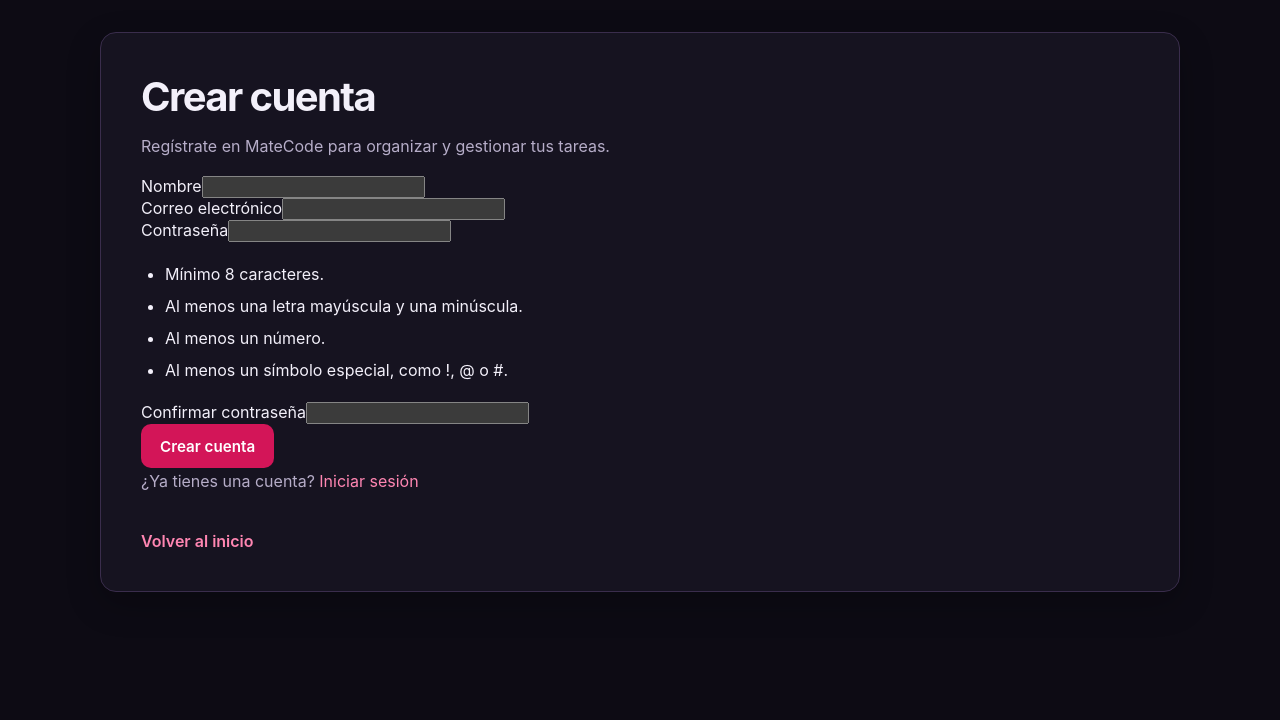
Test case: RegisterPage › muestra el error cuando falla el registro
Type "Ana Pérez" into the field labelled "Nombre" at (313, 187), box [202,176,424,198]
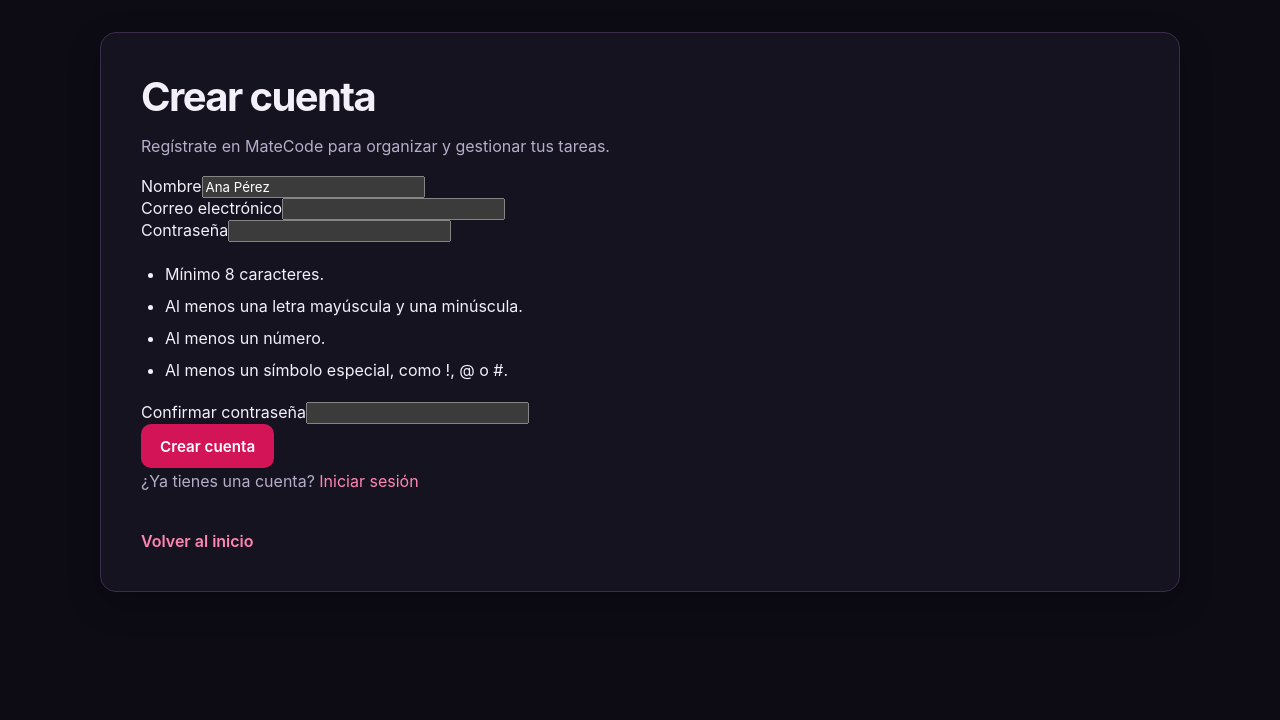
Type "ana@example.com" into the field labelled "Correo electrónico" at (394, 209), box [282,198,505,220]
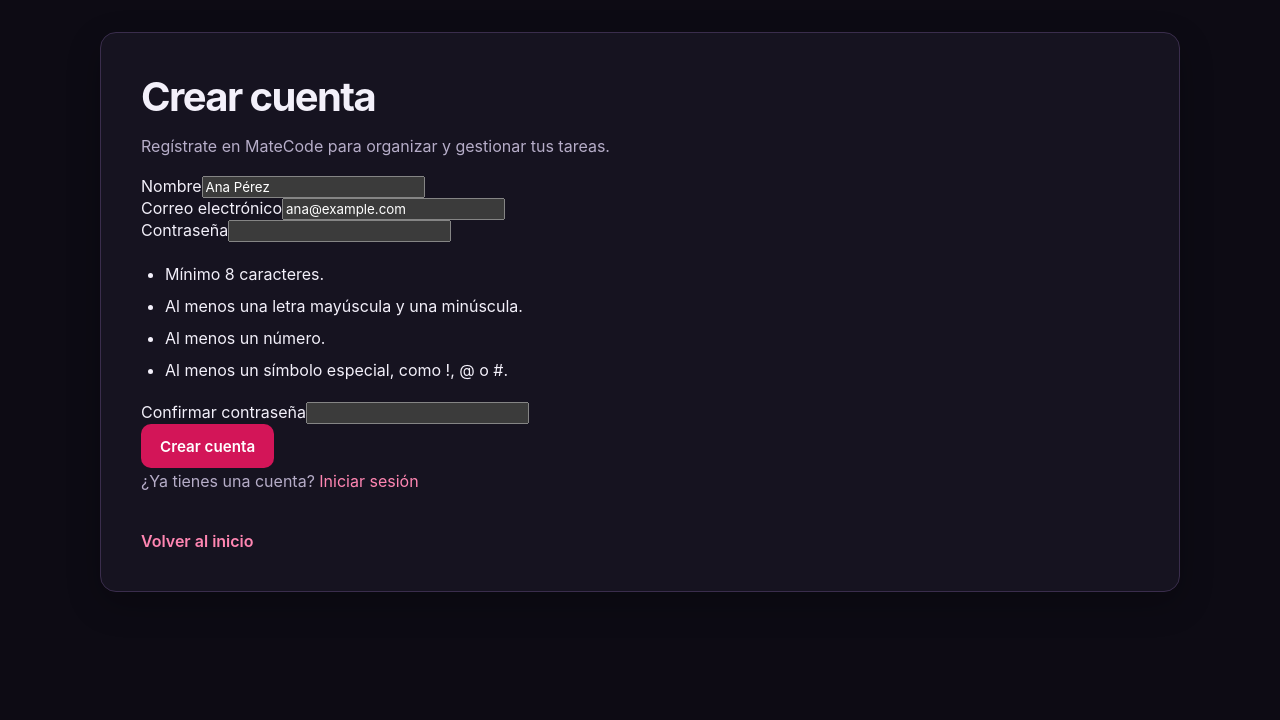
Type "Password123!" into the password field labelled "Contraseña" at (340, 231), box [228,220,451,242]
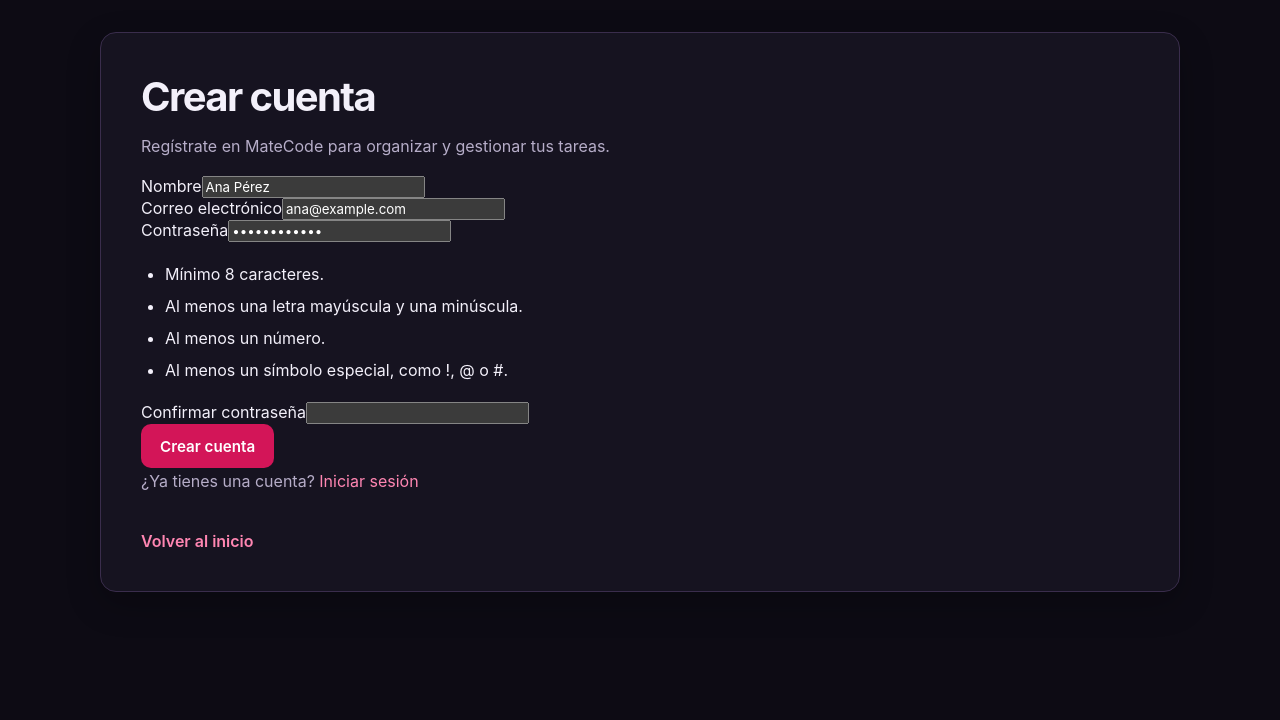
Type "Password123!" into the password field labelled "Confirmar contraseña" at (418, 413), box [306,402,529,424]
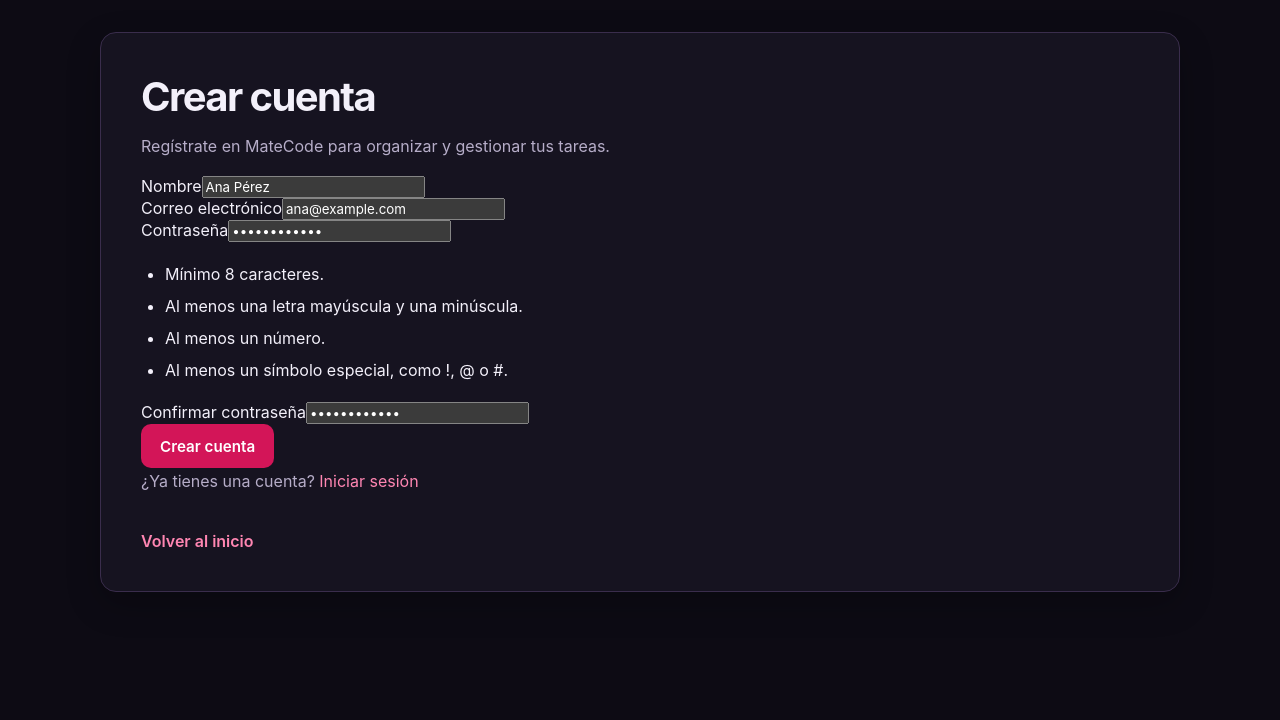
Click the button "Crear cuenta" at (208, 446), box [141,424,274,468]
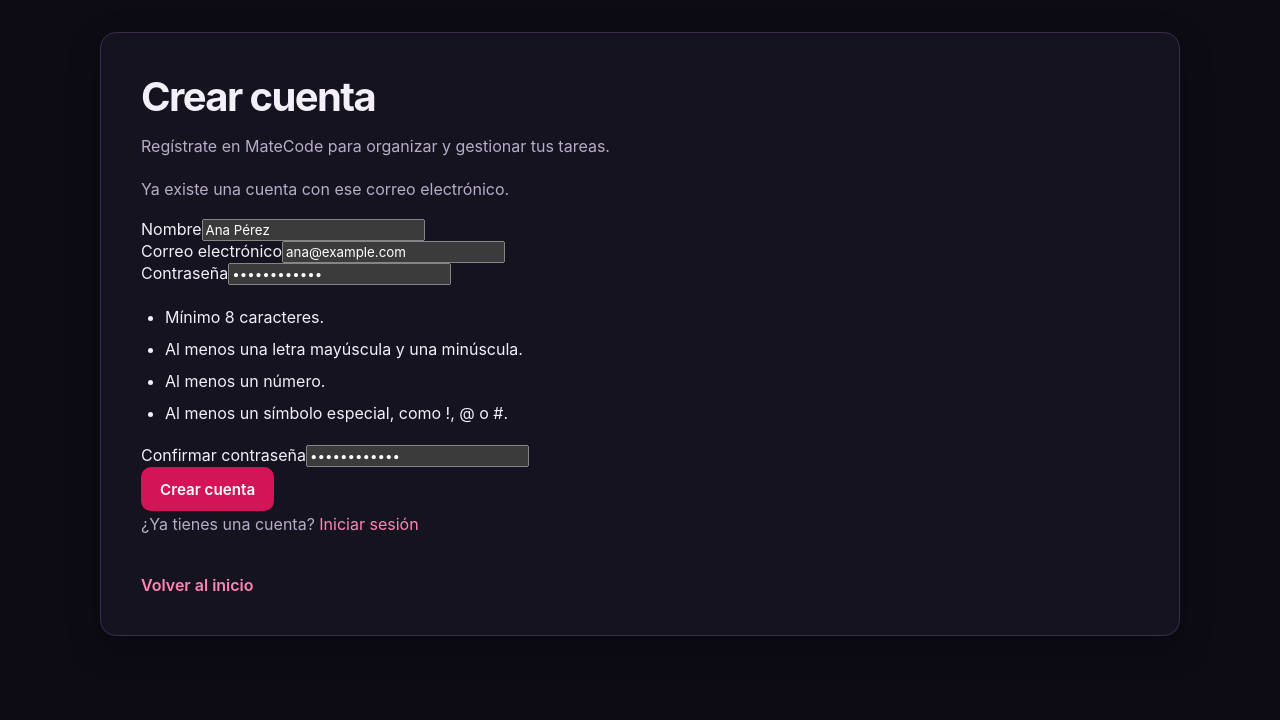
Now the message reads "Ya existe una cuenta con ese correo electrónico.", box [141,179,509,199]
